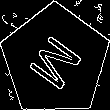M_SE: (23, 27, 88, 94)
